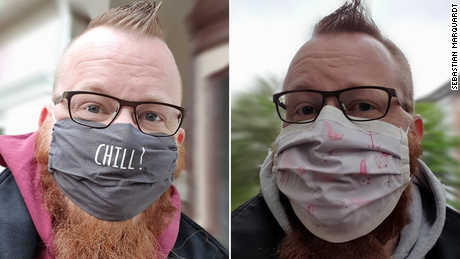with_mask: (266, 16, 436, 231), (37, 5, 201, 223)
